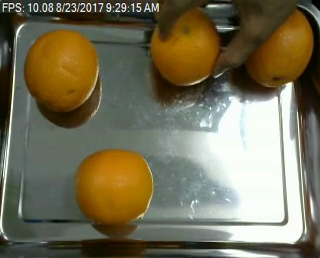Orange: (23, 30, 99, 110), (73, 148, 152, 224)
